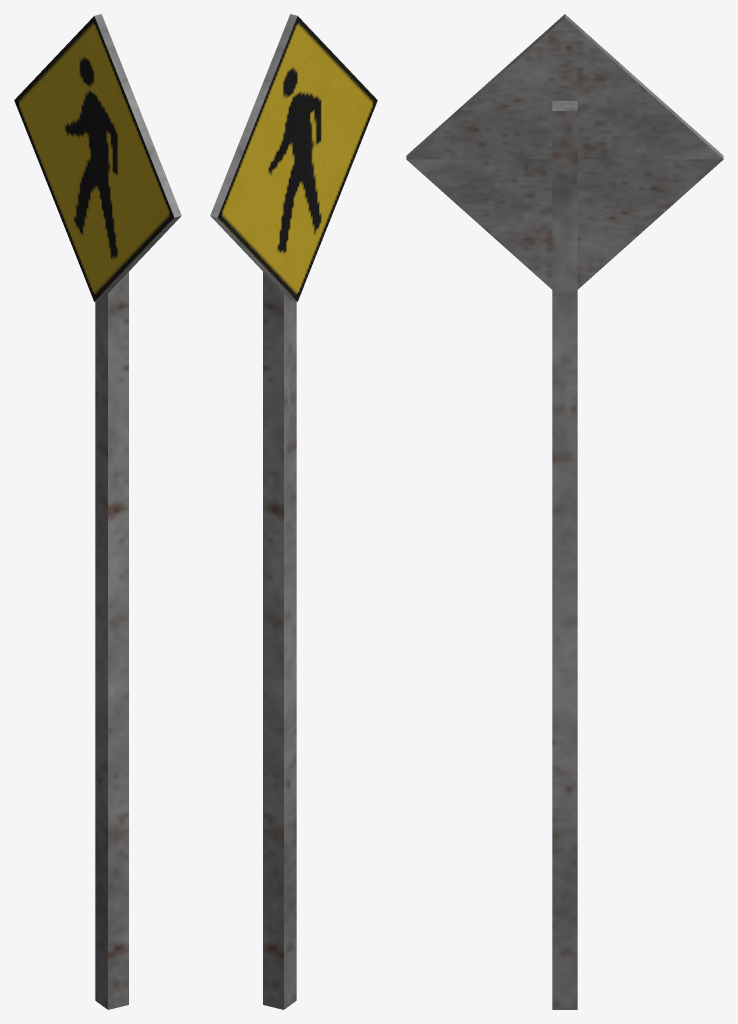
The model's file is Sign_Crossing.obj.
3 renders of one model, left to right at view 1: azimuth 30°, elevation 25°; view 2: azimuth 150°, elevation 25°; view 3: azimuth 270°, elevation 25°, orthographic.
Visible parts, largest first — view 1: Sign_Crossing; view 2: Sign_Crossing; view 3: Sign_Crossing.
Part boxes in pixels (<box>): Sign_Crossing: <box>14,14,181,1009</box>; Sign_Crossing: <box>210,14,377,1009</box>; Sign_Crossing: <box>406,14,723,1009</box>.
Bounding box in the file's own units: 0.0576 × 1.93 × 0.5665.
